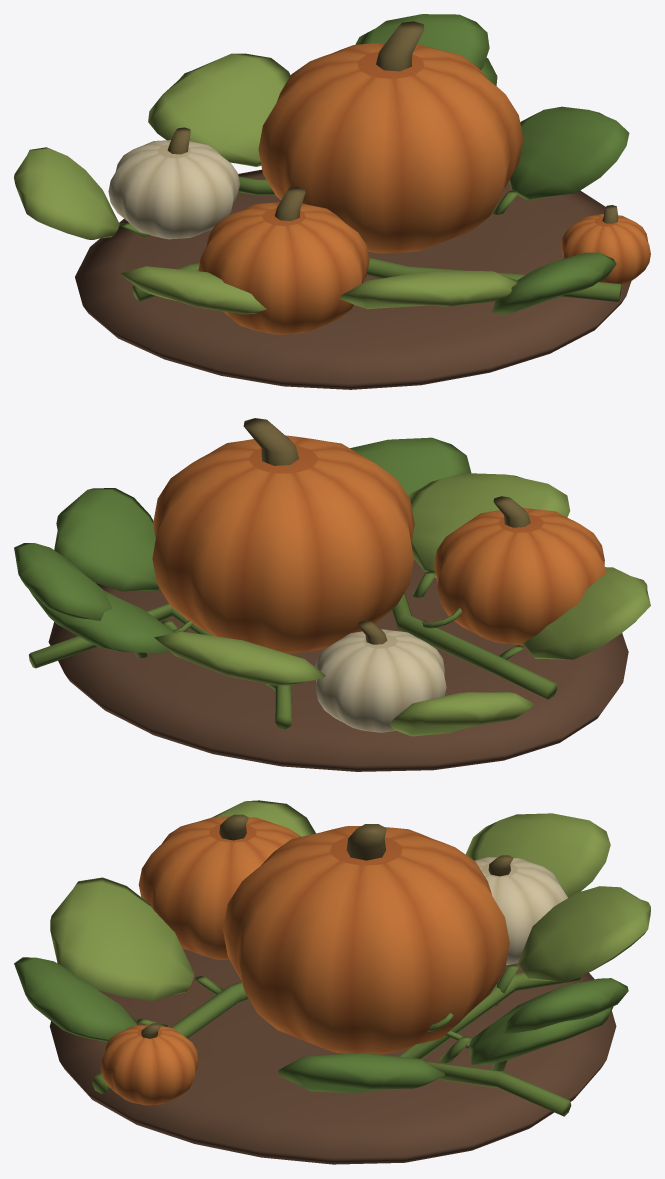
File: DEC_Pumpkin_Patch_A.fbx
3 renders of one model, top to bottom at view 1: azimuth 30°, elevation 25°; view 2: azimuth 150°, elevation 25°; view 3: azimuth 270°, elevation 25°, orthographic. The views are drawn at different scales.
Parts seen in each view (by area): view 1: DEC_Pumpkin_Patch_A_LOD0; view 2: DEC_Pumpkin_Patch_A_LOD0; view 3: DEC_Pumpkin_Patch_A_LOD0.
Part boxes in pixels (x1,y1,x2,y2): DEC_Pumpkin_Patch_A_LOD0: [14, 14, 650, 389]; DEC_Pumpkin_Patch_A_LOD0: [14, 418, 650, 771]; DEC_Pumpkin_Patch_A_LOD0: [14, 800, 650, 1164].
Size of what is drawn, in the model's own units: 1.18 by 0.4792 by 1.15.
